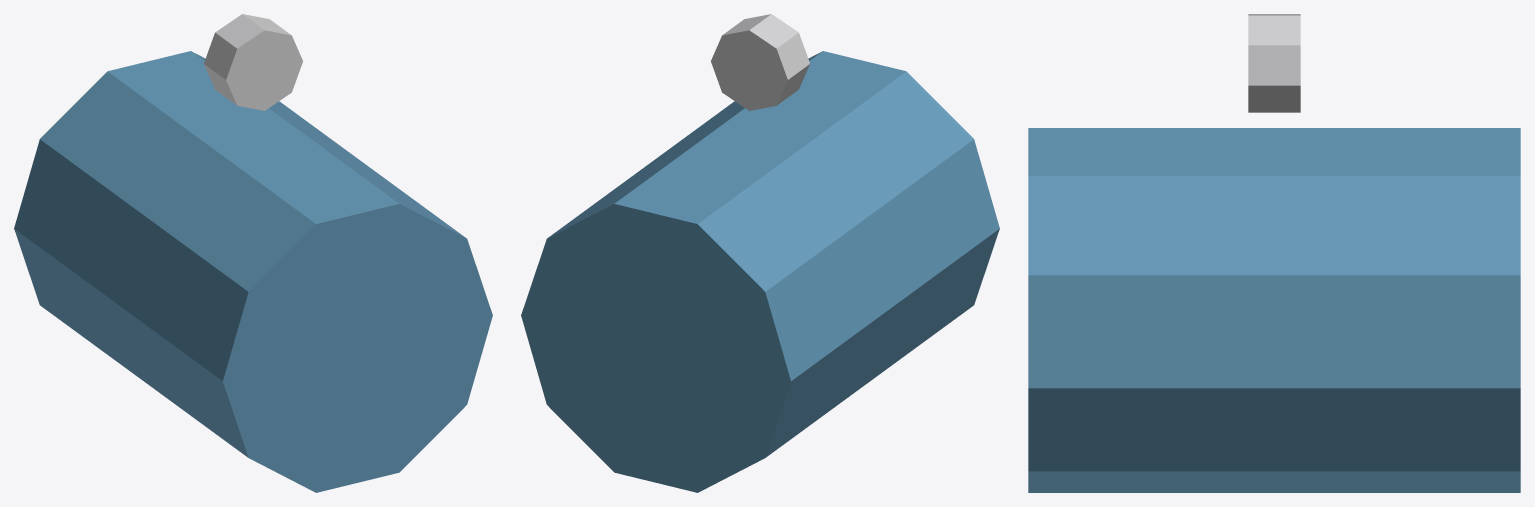
The model's file is water_container.glb.
3 views of the same model, side by side, from view 1: azimuth 30°, elevation 25°; view 2: azimuth 150°, elevation 25°; view 3: azimuth 270°, elevation 25° (orthographic). The views are drawn at different scales.
Parts seen in each view (by area): view 1: geometry_0; view 2: geometry_0; view 3: geometry_0.
Boxes of the visible parts, x1,y1,x2,y2 form: geometry_0: [14, 14, 492, 492]; geometry_0: [521, 14, 999, 492]; geometry_0: [1028, 14, 1520, 492].
Bounding box in the file's own units: 0.56 × 0.7613 × 0.75.
